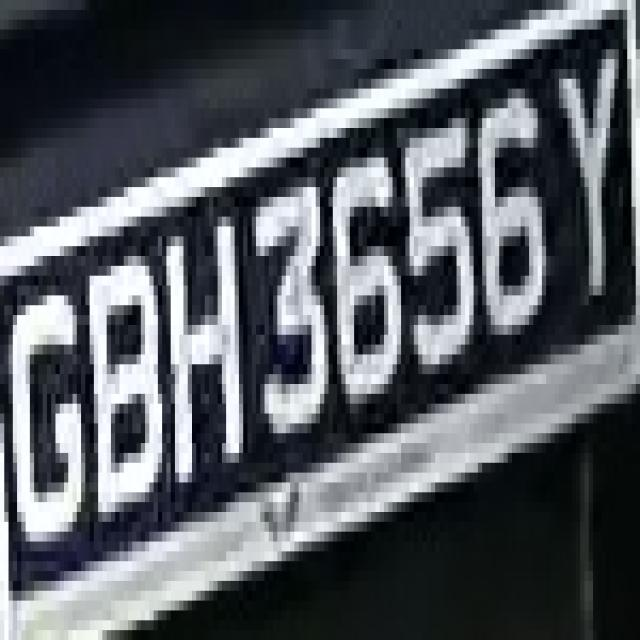3: (256, 158, 341, 462)
5: (393, 89, 482, 374)
6: (320, 138, 410, 443), (470, 79, 550, 404)
B: (90, 246, 170, 532)
G: (4, 226, 90, 552)
H: (136, 227, 248, 502)
Y: (542, 59, 627, 325)
